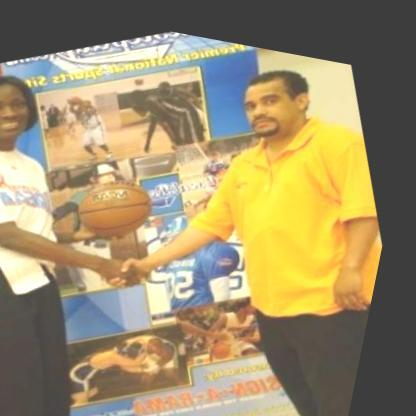basketball: (64, 153, 178, 255)
